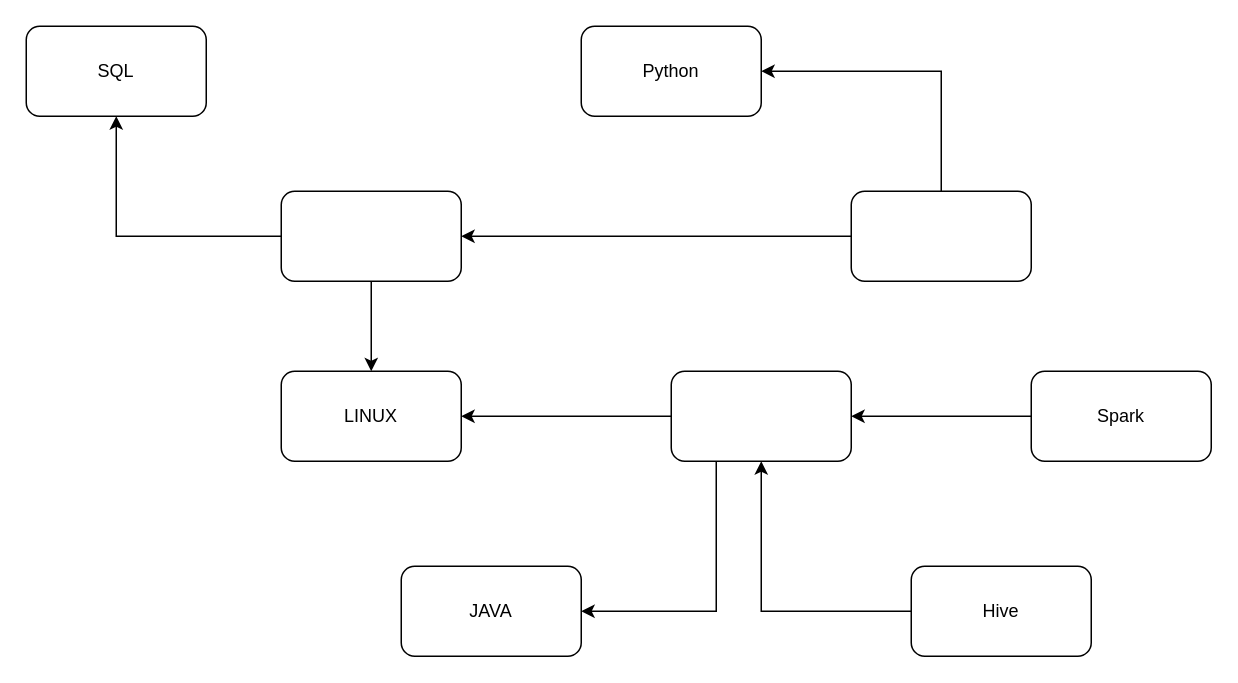
Some shapes in this 1238 by 683 pixel diagram are drawn without their labels. Here are the shapes that lost their labels. From the top down, the box of each, then its label:
(280, 190, 461, 281): MYSQL
(850, 190, 1031, 281): AIRFLOW
(670, 370, 851, 461): Hadoop
